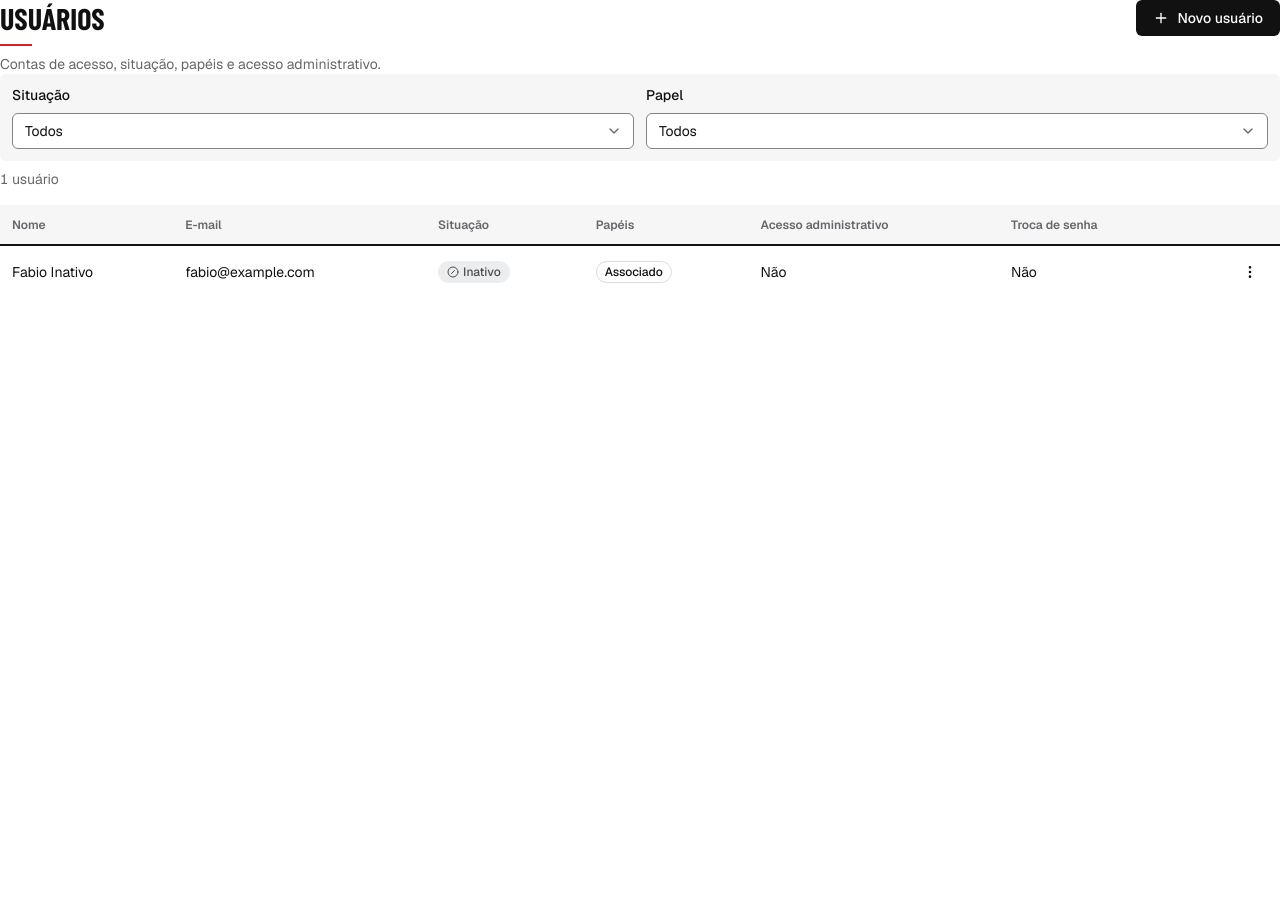
Scenario: confirmações (DSP-03 AC2, AC3 e AC5) › Reativar Fabio Inativo: nomeia a pessoa, diz a consequência e o botão repete o verbo
The width and height of the screenshot is (1280, 900).
Check: the text "fabio@example.com" is shown, box [173,245,426,298]
What coordinates should you click on to do the following:
click the button named "Ações de Fabio Inativo"
I would click on:
 (1250, 272)
Its box is [1232,254,1268,290].
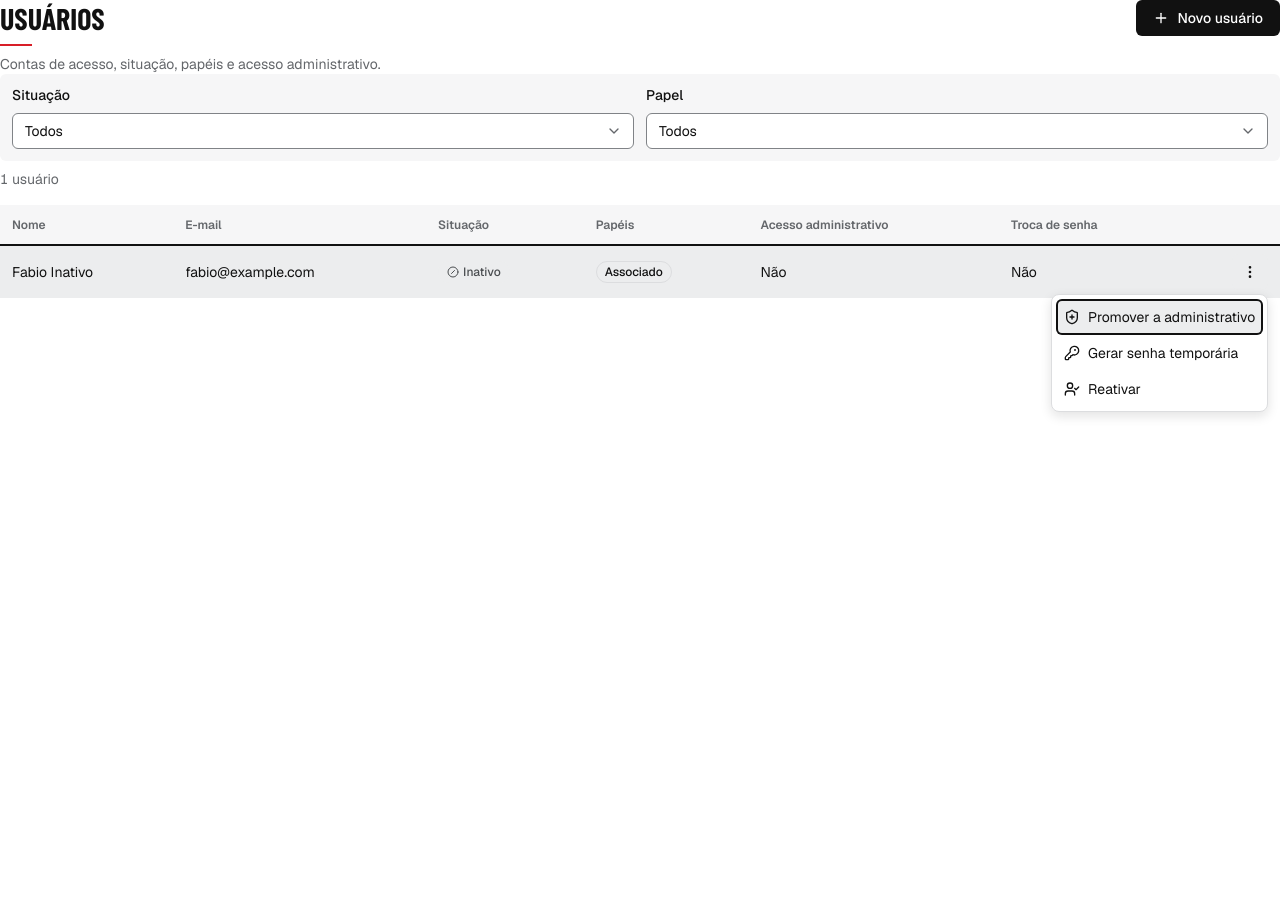
Check: the menu is shown, box [1051,294,1268,412]
What coordinates should you click on to do the following:
click the menu item with aria-label "Reativar Fabio Inativo"
I would click on:
 (1102, 389)
Its box is [1064,380,1141,398].
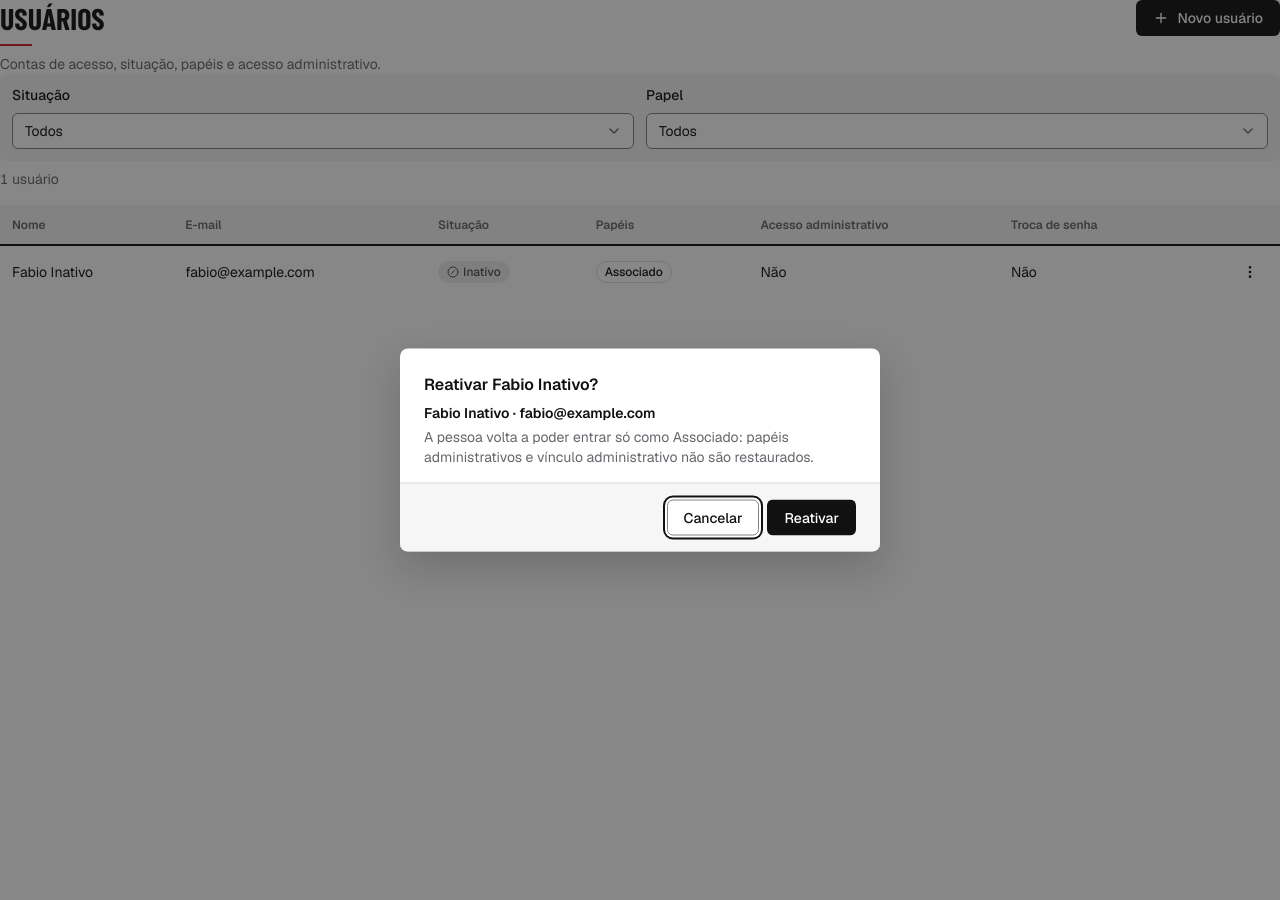
Check: the text "A pessoa volta a poder entrar só como Associado: papéis administrativos e vínculo administrativo não são restaurados." is shown, box [424,428,813,466]
